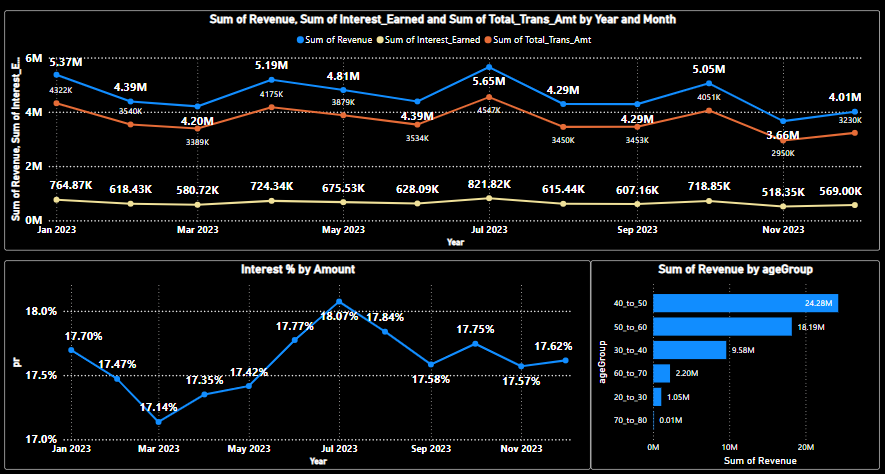

What the dashboard file says about the page in this screenshot:
{"tool":"powerbi","page":{"name":"2","canvas":[1280,720],"ordinal":1},"visuals":[{"type":"lineChart","fields":{"Y":["Sum(credit_card_edited_file.Revenue)","Sum(credit_card_edited_file.Interest_Earned)","Sum(credit_card_edited_file.Total_Trans_Amt)"],"Category":["credit_card_edited_file.Week_Start_Date.Variation.Date Hierarchy.Year","credit_card_edited_file.Week_Start_Date.Variation.Date Hierarchy.Month"]},"box":[17.3,31.7,1246.5,341.9],"z":0},{"type":"lineChart","title":"Interest % by Amount","fields":{"Y":["credit_card_edited_file.pr"],"Category":["credit_card_edited_file.Week_Start_Date.Variation.Date Hierarchy.Year","credit_card_edited_file.Week_Start_Date.Variation.Date Hierarchy.Month"]},"box":[17.8,388,834.7,297.2],"z":1000},{"type":"barChart","fields":{"Category":["customer.ageGroup"],"Y":["Sum(credit_card_edited_file.Revenue)"]},"box":[852.5,388,411.1,297.2],"z":2001}]}

Visuals, with their boxes on the page's 1280x720 design canvas (x1, y1, x2, y2). These are canvas units, not pixel positions in the 885x474 screenshot, which may show the page scaled, cropped or inside an application window:
lineChart - Sum(credit_card_edited_file.Revenue) x Sum(credit_card_edited_file.Interest_Earned): [17,32,1264,374]
"Interest % by Amount" lineChart: [18,388,852,685]
barChart - customer.ageGroup x Sum(credit_card_edited_file.Revenue): [852,388,1264,685]
